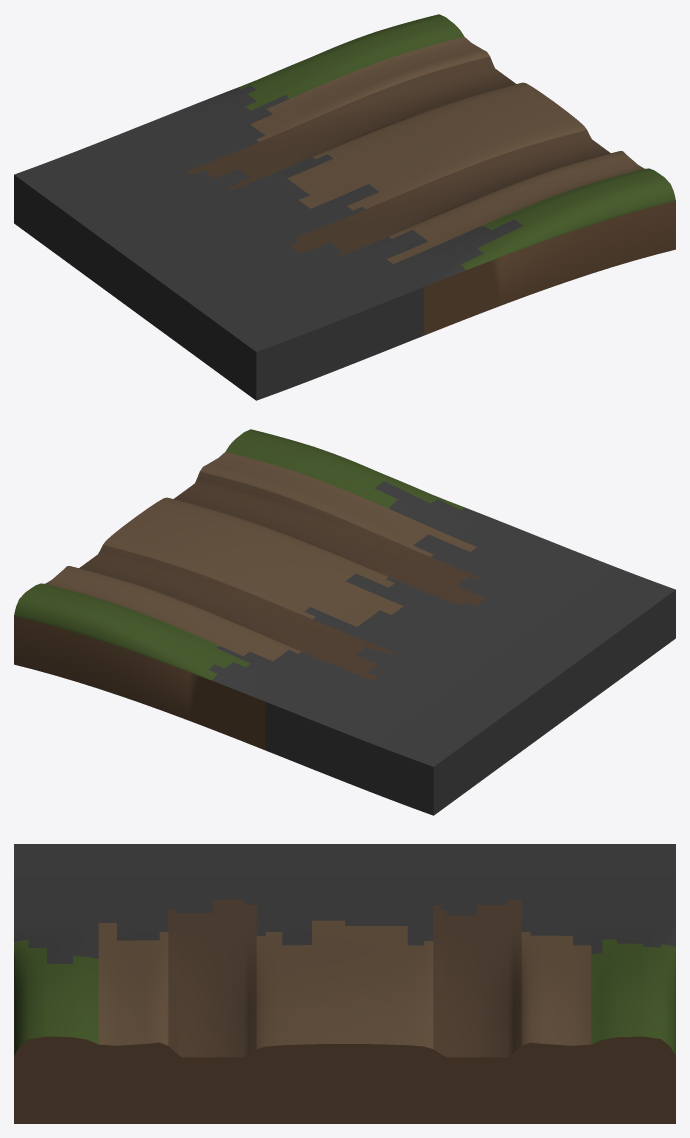
3 views of the same model, one above another, from view 1: azimuth 30°, elevation 25°; view 2: azimuth 150°, elevation 25°; view 3: azimuth 270°, elevation 25° (orthographic). The views are drawn at different scales.
Parts seen in each view (by area): view 1: e0u; view 2: e0u; view 3: e0u.
Boxes of the visible parts, <box> form: e0u: <box>14,14,675,400</box>; e0u: <box>14,429,675,815</box>; e0u: <box>14,844,675,1123</box>.
Bounding box in the file's own units: 9 × 2.31 × 9.
